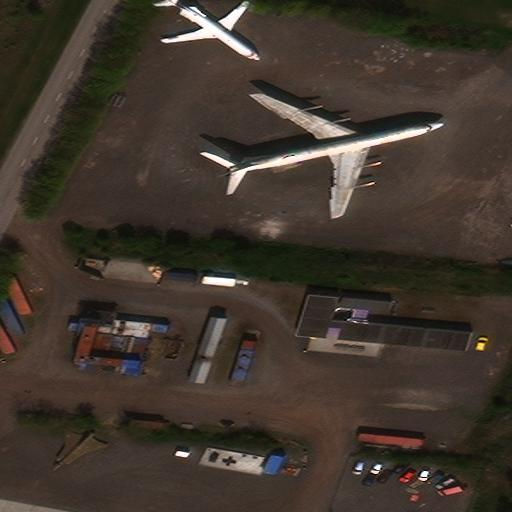Large Civil Transport: (216, 92, 445, 214)
Medium Civil Transport: (159, 0, 261, 59)
Military Fighter: (50, 430, 109, 474)
